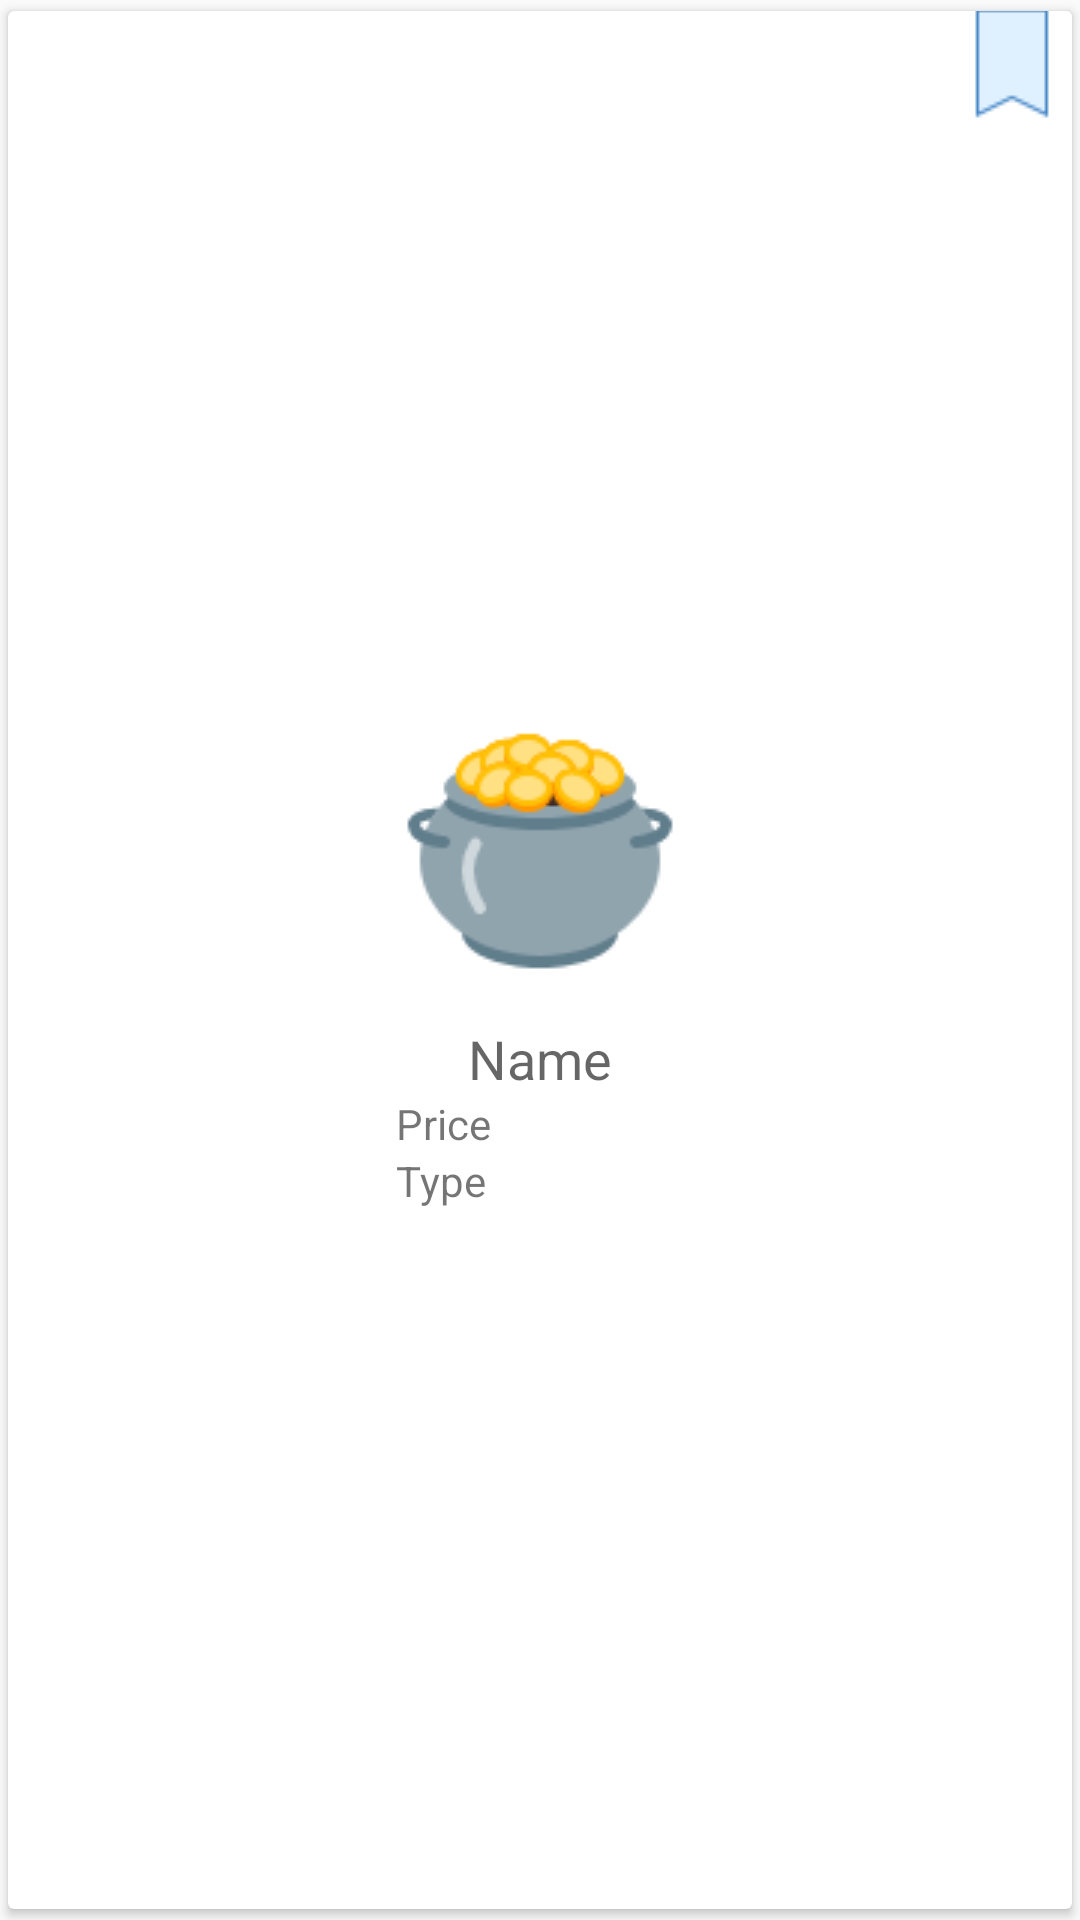

Icons on this 1080x1920 Android screen, each with the point to tap as [x,y]:
bookmark: [1012,64]
